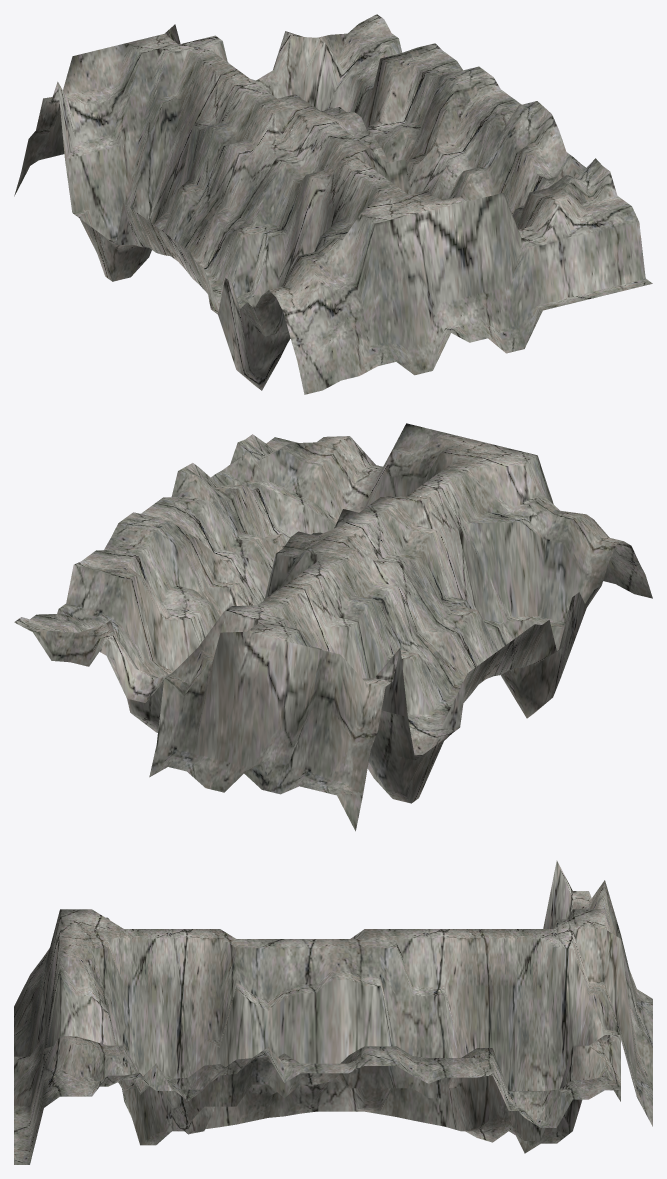
File: DWARF_PALACE_MAINHALL_CELLING02A.fbx
The picture shows the model from 3 angles, top to bottom: view 1: azimuth 30°, elevation 25°; view 2: azimuth 150°, elevation 25°; view 3: azimuth 270°, elevation 25°; orthographic projection. The views are drawn at different scales.
Visible parts, largest first — view 1: DWARF_PALACE_MAINHALL_CELLING02A; view 2: DWARF_PALACE_MAINHALL_CELLING02A; view 3: DWARF_PALACE_MAINHALL_CELLING02A.
Part boxes in pixels (x1,y1,x2,y2): DWARF_PALACE_MAINHALL_CELLING02A: (14, 14, 652, 394); DWARF_PALACE_MAINHALL_CELLING02A: (14, 423, 652, 831); DWARF_PALACE_MAINHALL_CELLING02A: (14, 860, 652, 1164).
Size of the model in its own units: 359782 by 193373 by 519419.
1 material, 1 textured.
